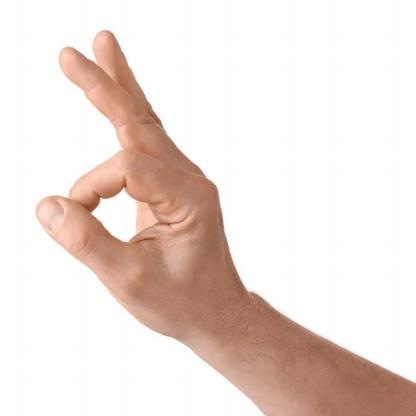ok: (31, 26, 228, 342)
